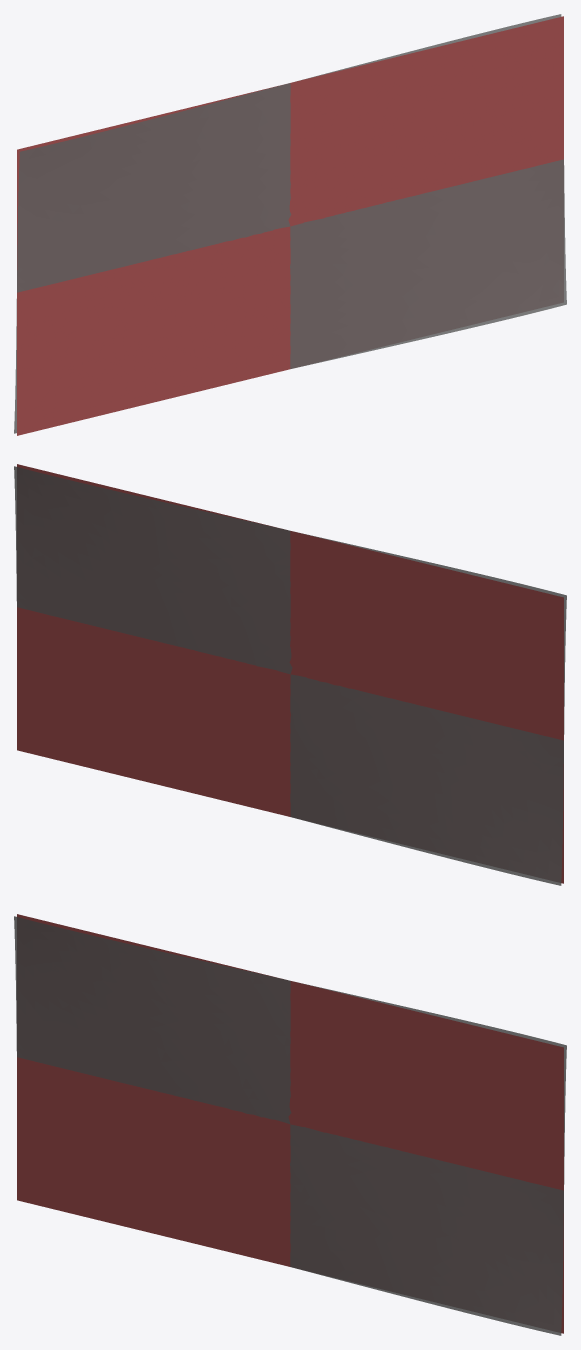
The model's file is warping-box-80-160-10-10-1319.glb.
The picture shows the model from 3 angles, top to bottom: view 1: azimuth 30°, elevation 25°; view 2: azimuth 150°, elevation 25°; view 3: azimuth 330°, elevation 25°; orthographic projection.
Parts seen in each view (by area): view 1: undeformed cross-section, cross-section with warping; view 2: undeformed cross-section, cross-section with warping; view 3: undeformed cross-section, cross-section with warping.
Part boxes in pixels (left/top/right/bottom): undeformed cross-section: left=17, top=16, right=563, bottom=435; cross-section with warping: left=14, top=14, right=566, bottom=433; undeformed cross-section: left=17, top=464, right=563, bottom=883; cross-section with warping: left=14, top=466, right=566, bottom=885; undeformed cross-section: left=17, top=914, right=563, bottom=1333; cross-section with warping: left=14, top=916, right=566, bottom=1335.
Bounding box in the file's own units: 0.16 × 0.08 × 0.00336.
